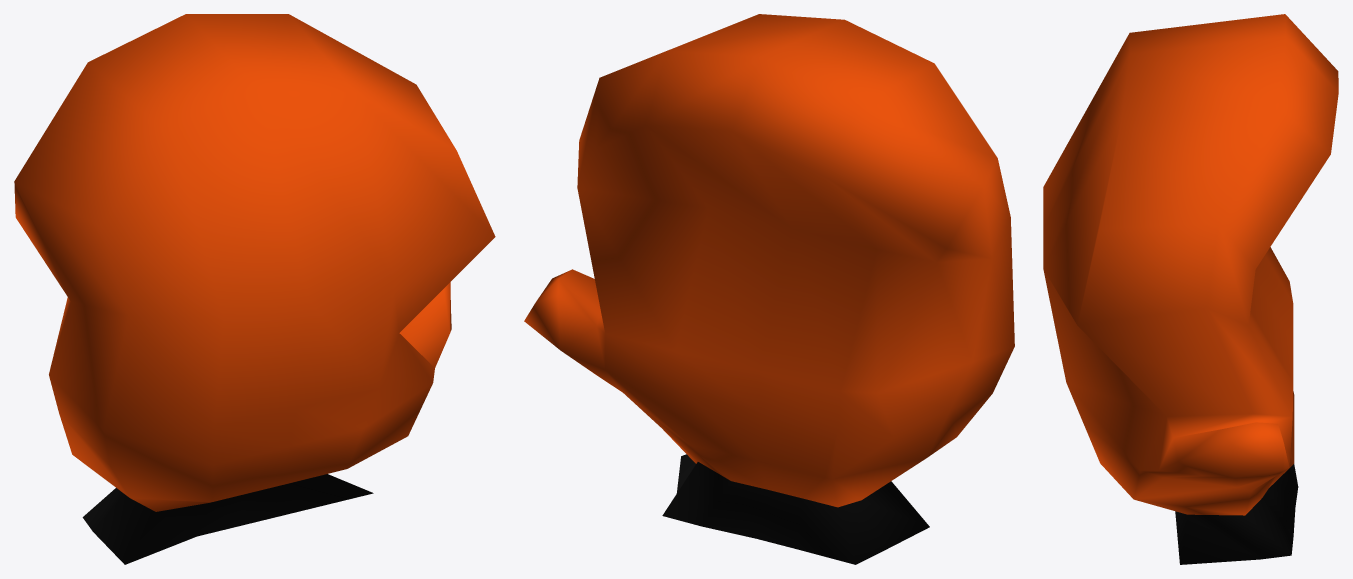
The model's file is Glove.fbx.
3 renders of one model, left to right at view 1: azimuth 30°, elevation 25°; view 2: azimuth 150°, elevation 25°; view 3: azimuth 270°, elevation 25°, orthographic.
Parts seen in each view (by area): view 1: Cube; view 2: Cube; view 3: Cube.
Boxes of the visible parts, x1,y1,x2,y2 form: Cube: (14,14,495,564); Cube: (524,14,1014,564); Cube: (1043,14,1338,564).
Bounding box in the file's own units: 73.53 × 77.89 × 43.94.
